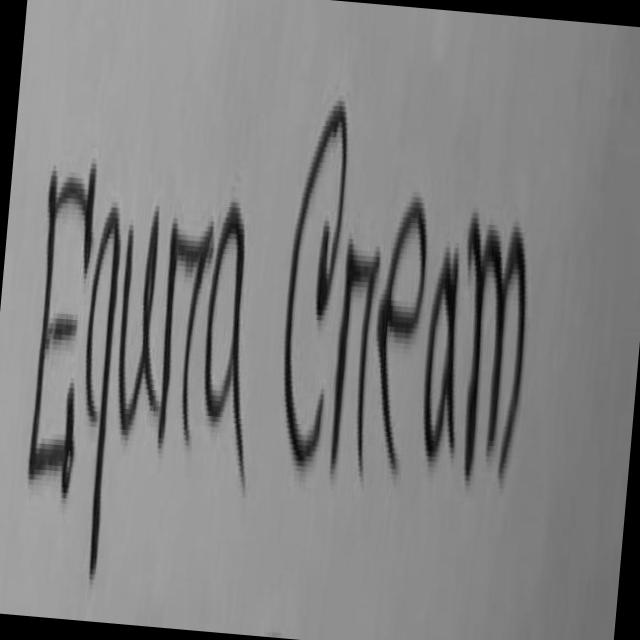C: (285, 95, 347, 460)
E: (28, 163, 96, 490)
a: (205, 202, 245, 479), (425, 247, 459, 454)
e: (378, 197, 427, 466)
m: (466, 213, 525, 473)
q: (85, 202, 119, 571)
r: (158, 221, 212, 440), (331, 238, 380, 469)
u: (118, 206, 158, 429)
